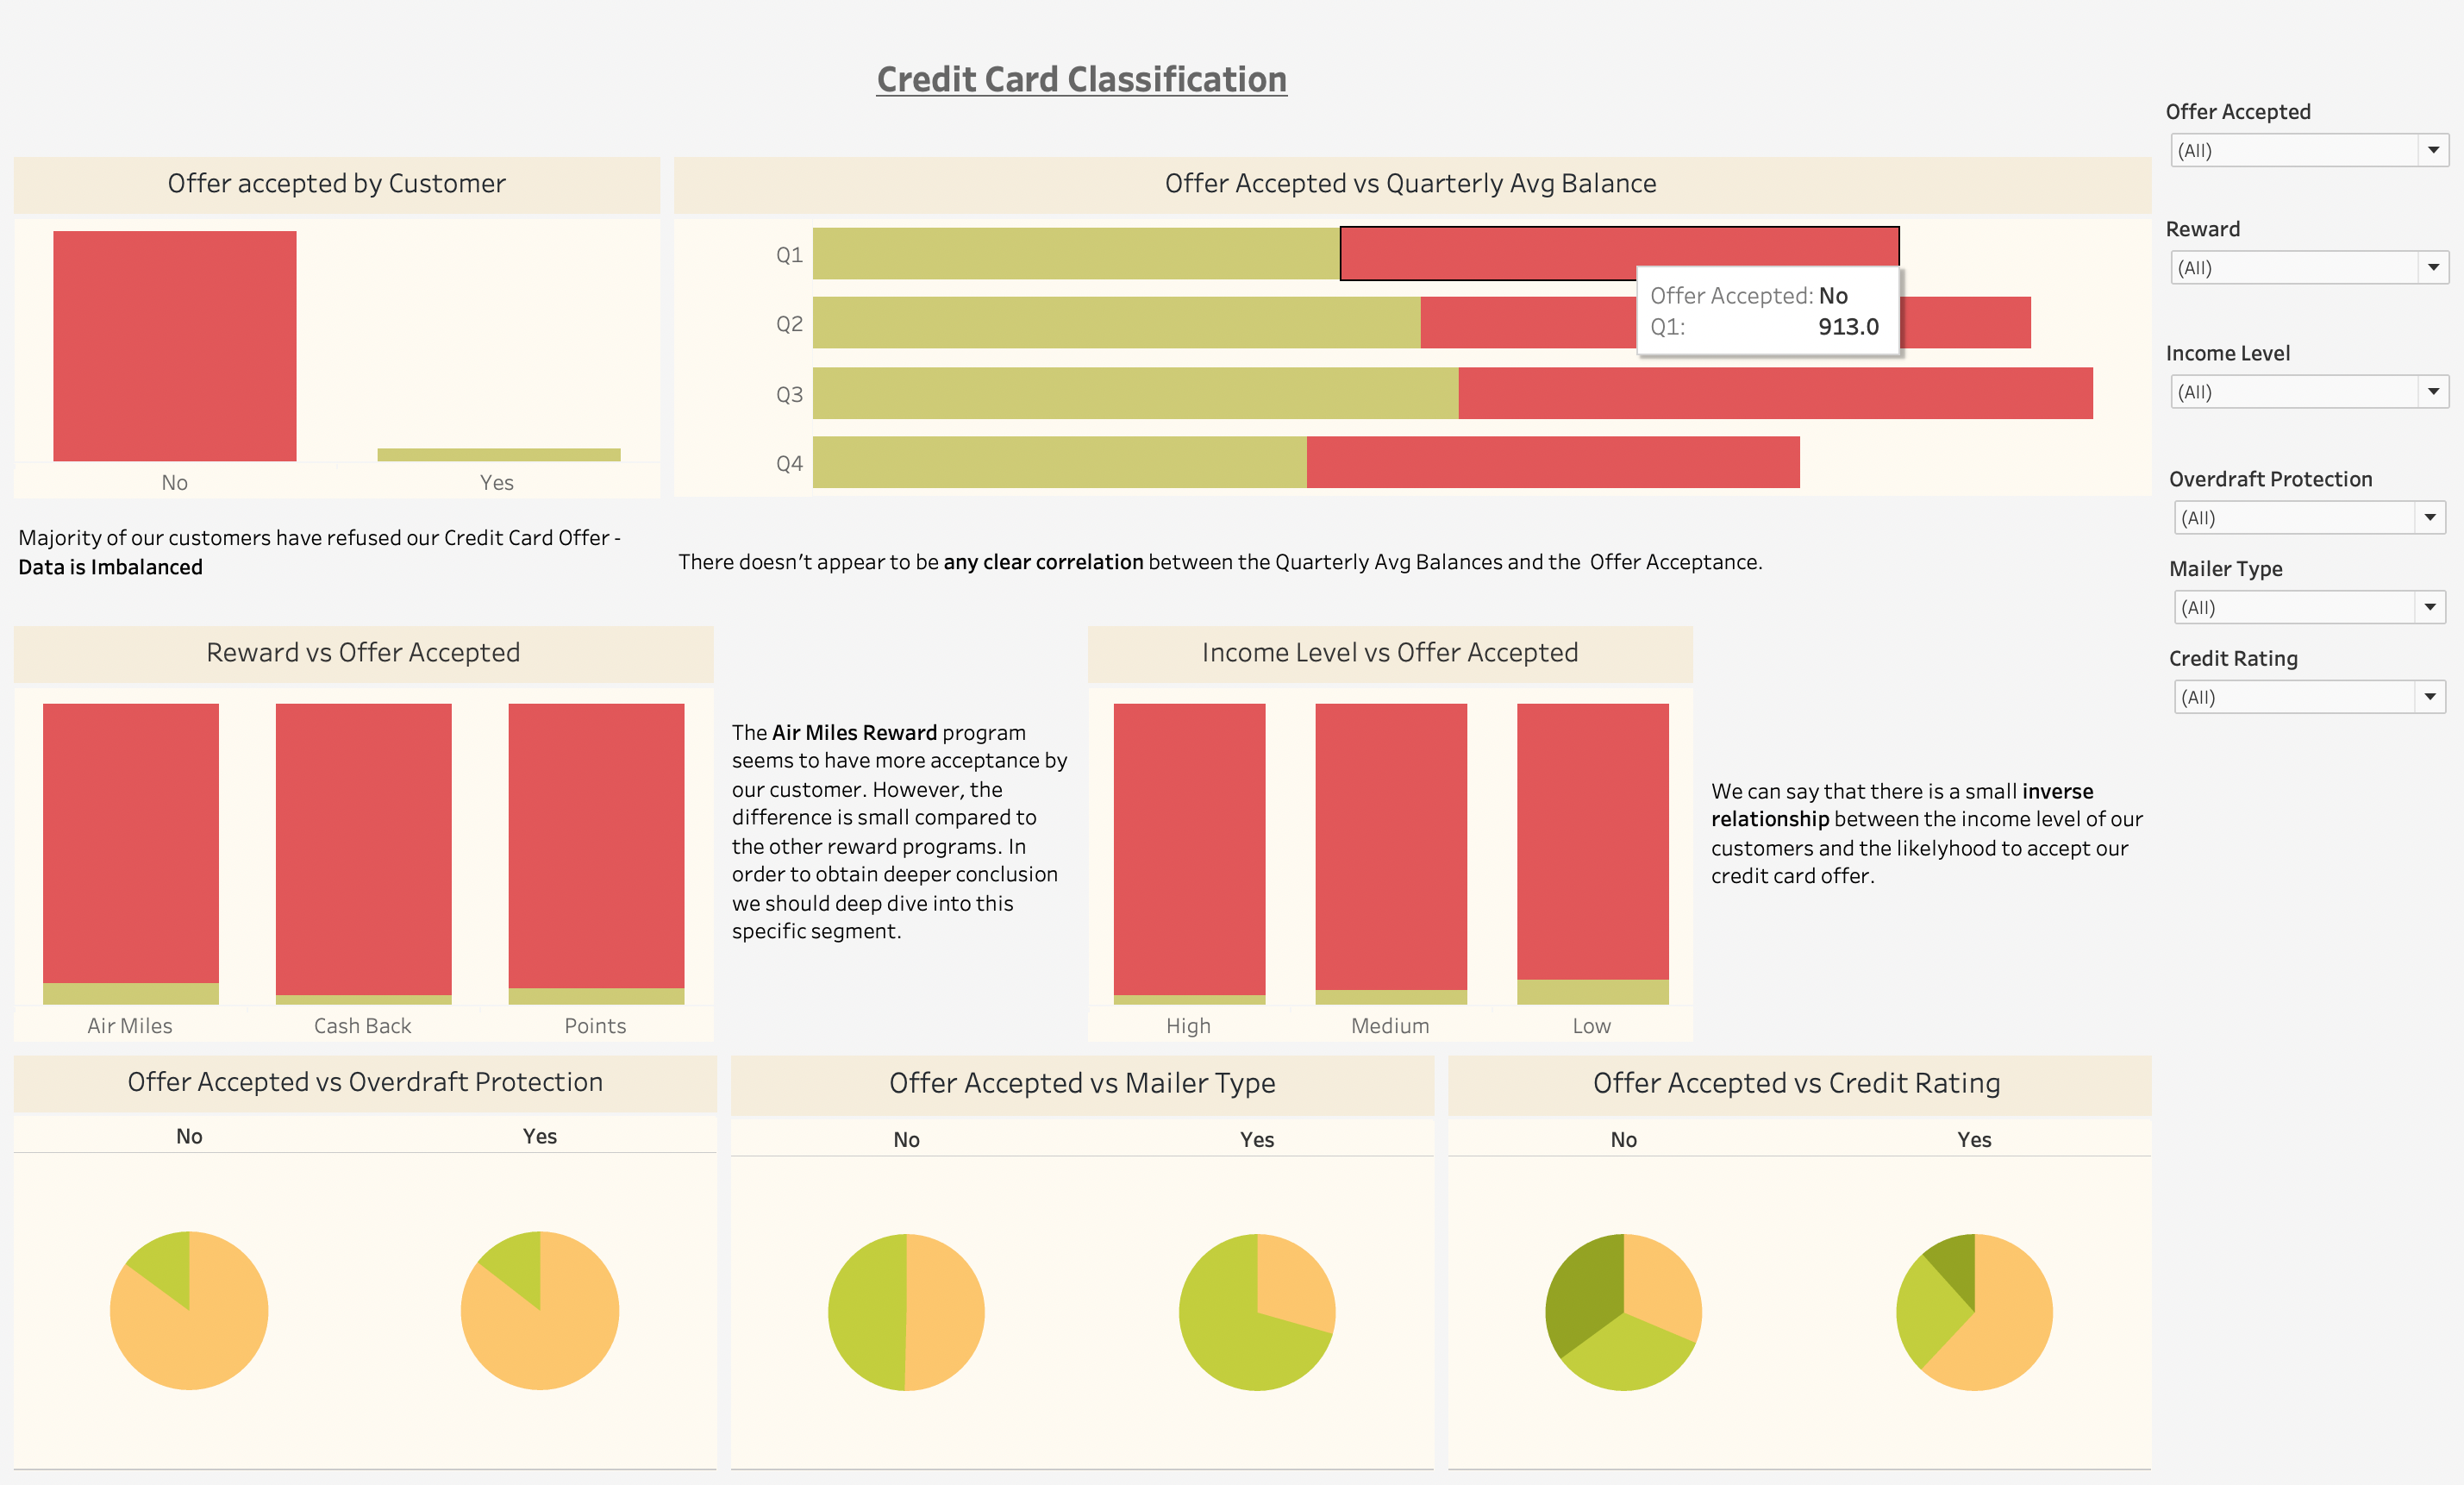

The page's visual inventory and layout, read from the dashboard file:
{"tool":"tableau","page":{"name":"Task 9 - Dashboard","canvas":[1000,1000],"units":"permille","ordinal":0},"visuals":[{"type":"text","box":[6.7,12.8,865,95.7]},{"type":"filter","title":"Task 5(DB)","param":"[federated.0hzrslb0uli1vd15rb0dn1bhgdxv].[none:Offer_Accepted:nk]","box":[871.6,68.5,121.7,78.2]},{"type":"worksheet","title":"Task 3(DB)","mark":"Automatic","rows":["Customer_Number"],"cols":["Offer_Accepted"],"box":[6.7,108.4,265.2,235]},{"type":"worksheet","title":"Task 5(DB)","mark":"Bar","box":[271.8,108.4,599.8,234.4]},{"type":"filter","title":"Reward(DB)","param":"[federated.0hzrslb0uli1vd15rb0dn1bhgdxv].[none:Reward:nk]","box":[871.6,146.7,121.7,81.4]},{"type":"filter","title":"IncomeLevel(DB)","param":"[federated.0hzrslb0uli1vd15rb0dn1bhgdxv].[none:Income_Level:nk]","box":[871.6,228.1,121.7,81.3]},{"type":"filter","title":"Task 7.1 (DB)","param":"[federated.0hzrslb0uli1vd15rb0dn1bhgdxv].[none:Overdraft_Protection:nk]","box":[873.3,312.6,118.3,82.9]},{"type":"text","box":[271.8,342.9,599.8,76.6]},{"type":"text","box":[6.7,343.5,265.2,76]},{"type":"filter","title":"Task 7.2 (DB)","param":"[federated.0hzrslb0uli1vd15rb0dn1bhgdxv].[none:Mailer_Type:nk]","box":[873.3,395.5,118.3,82.9]},{"type":"worksheet","title":"Reward(DB)","mark":"Automatic","cols":["Reward"],"box":[6.7,419.4,286.6,283.9]},{"type":"text","box":[293.3,419.4,145.3,283.9]},{"type":"worksheet","title":"IncomeLevel(DB)","mark":"Automatic","cols":["Income_Level"],"box":[438.6,419.4,299.2,283.9]},{"type":"text","box":[737.8,419.4,133.9,283.9]},{"type":"filter","title":"Task 7.3 (DB)","param":"[federated.0hzrslb0uli1vd15rb0dn1bhgdxv].[none:Credit_Rating:nk]","box":[873.3,478.4,118.3,82.9]},{"type":"worksheet","title":"Task 7.1 (DB)","mark":"Pie","cols":["Offer_Accepted"],"box":[6.7,703.3,288.3,283.9]},{"type":"worksheet","title":"Task 7.2 (DB)","mark":"Pie","cols":["Offer_Accepted"],"box":[295,703.3,288.3,283.9]},{"type":"worksheet","title":"Task 7.3 (DB)","mark":"Pie","cols":["Offer_Accepted"],"box":[583.3,703.3,288.3,283.9]}]}

Visuals, with their boxes on the dashboard's canvas, which has no fixed pixel size, in thousandths of its width and height (x1, y1, x2, y2). These are canvas units, not pixel positions in the 2464x1485 screenshot, which may show the page scaled, cropped or inside an application window:
text: x1=7 y1=13 x2=872 y2=108
"Task 5(DB)" filter: x1=872 y1=68 x2=993 y2=147
"Task 3(DB)" worksheet: x1=7 y1=108 x2=272 y2=343
"Task 5(DB)" worksheet (Bar marks): x1=272 y1=108 x2=872 y2=343
"Reward(DB)" filter: x1=872 y1=147 x2=993 y2=228
"IncomeLevel(DB)" filter: x1=872 y1=228 x2=993 y2=309
"Task 7.1 (DB)" filter: x1=873 y1=313 x2=992 y2=396
text: x1=272 y1=343 x2=872 y2=420
text: x1=7 y1=344 x2=272 y2=420
"Task 7.2 (DB)" filter: x1=873 y1=396 x2=992 y2=478
"Reward(DB)" worksheet: x1=7 y1=419 x2=293 y2=703
text: x1=293 y1=419 x2=439 y2=703
"IncomeLevel(DB)" worksheet: x1=439 y1=419 x2=738 y2=703
text: x1=738 y1=419 x2=872 y2=703
"Task 7.3 (DB)" filter: x1=873 y1=478 x2=992 y2=561
"Task 7.1 (DB)" worksheet (Pie marks): x1=7 y1=703 x2=295 y2=987
"Task 7.2 (DB)" worksheet (Pie marks): x1=295 y1=703 x2=583 y2=987
"Task 7.3 (DB)" worksheet (Pie marks): x1=583 y1=703 x2=872 y2=987
